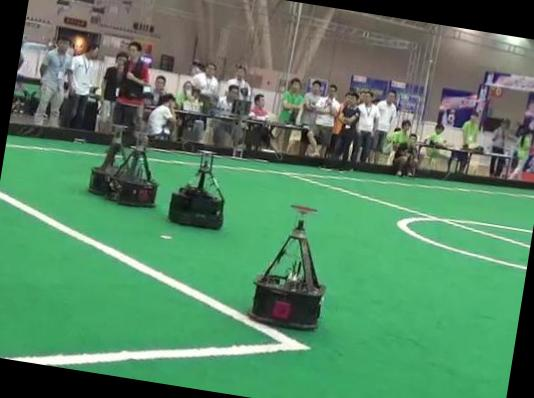robot: (249, 205, 325, 329), (168, 150, 224, 229), (106, 132, 157, 206), (88, 125, 126, 195)
